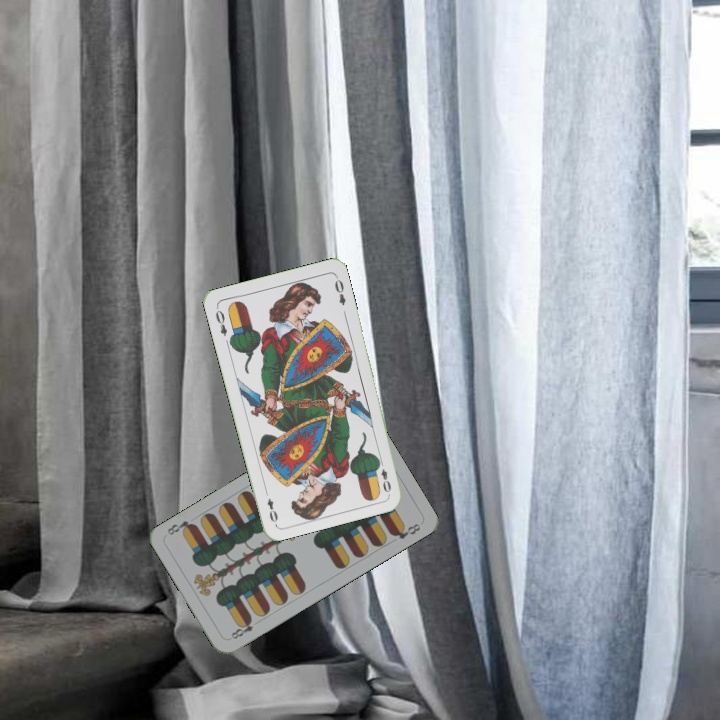E8: (225, 614, 256, 642)
EO: (374, 455, 394, 495), (211, 303, 230, 338)
